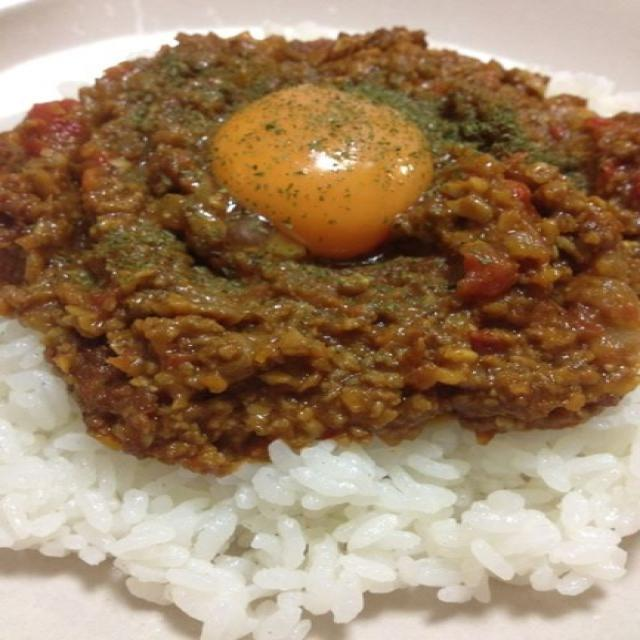面条主食: (5, 0, 592, 640)
